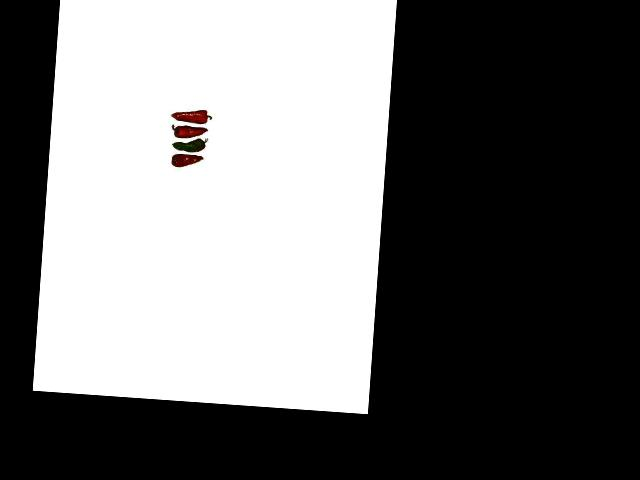bell_pepper: (169, 152, 206, 172)
